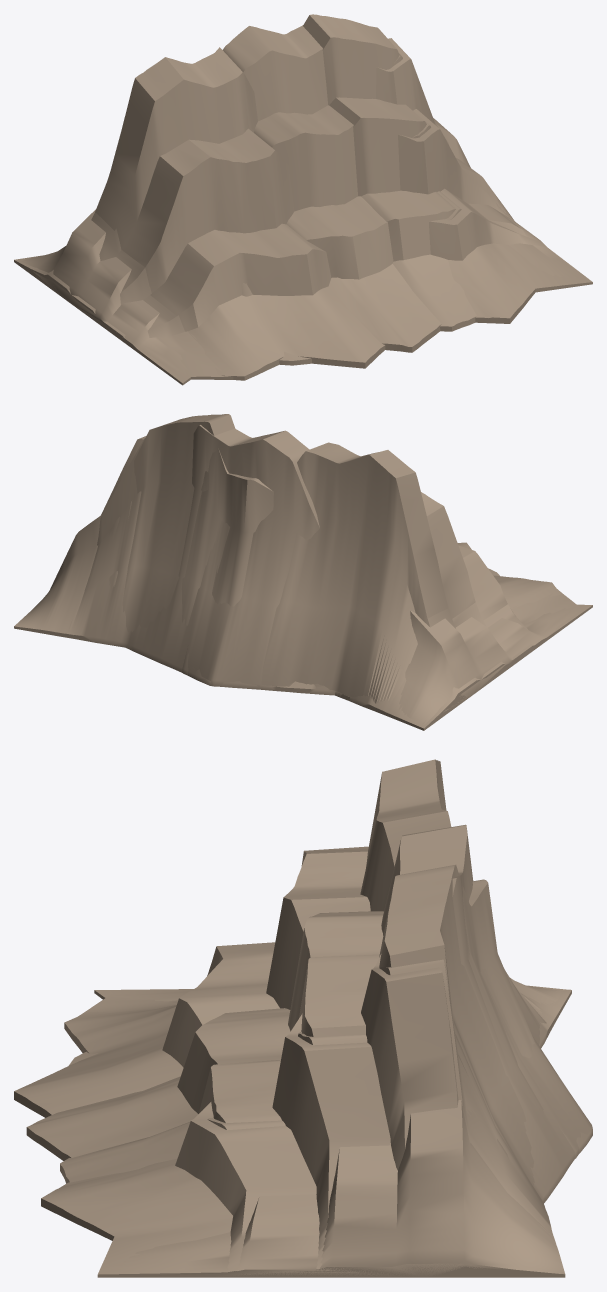
The model's file is background-ridge-kit.glb.
3 views of the same model, one above another, from view 1: azimuth 30°, elevation 25°; view 2: azimuth 150°, elevation 25°; view 3: azimuth 270°, elevation 25° (orthographic). The views are drawn at different scales.
Visible parts, largest first — view 1: background-ridge-0, background-ridge-2, background-ridge-1; view 2: background-ridge-0, background-ridge-1, background-ridge-2; view 3: background-ridge-0, background-ridge-1, background-ridge-2.
Part boxes in pixels (<box>): background-ridge-0: <box>14,38,592,380</box>; background-ridge-2: <box>14,25,461,379</box>; background-ridge-1: <box>21,14,588,385</box>; background-ridge-0: <box>72,436,560,730</box>; background-ridge-1: <box>14,414,592,723</box>; background-ridge-2: <box>14,425,579,730</box>; background-ridge-0: <box>14,759,592,1277</box>; background-ridge-1: <box>60,864,578,1277</box>; background-ridge-2: <box>26,824,592,1277</box>.
Size of the model in its own units: 2 by 1 by 1.72.
